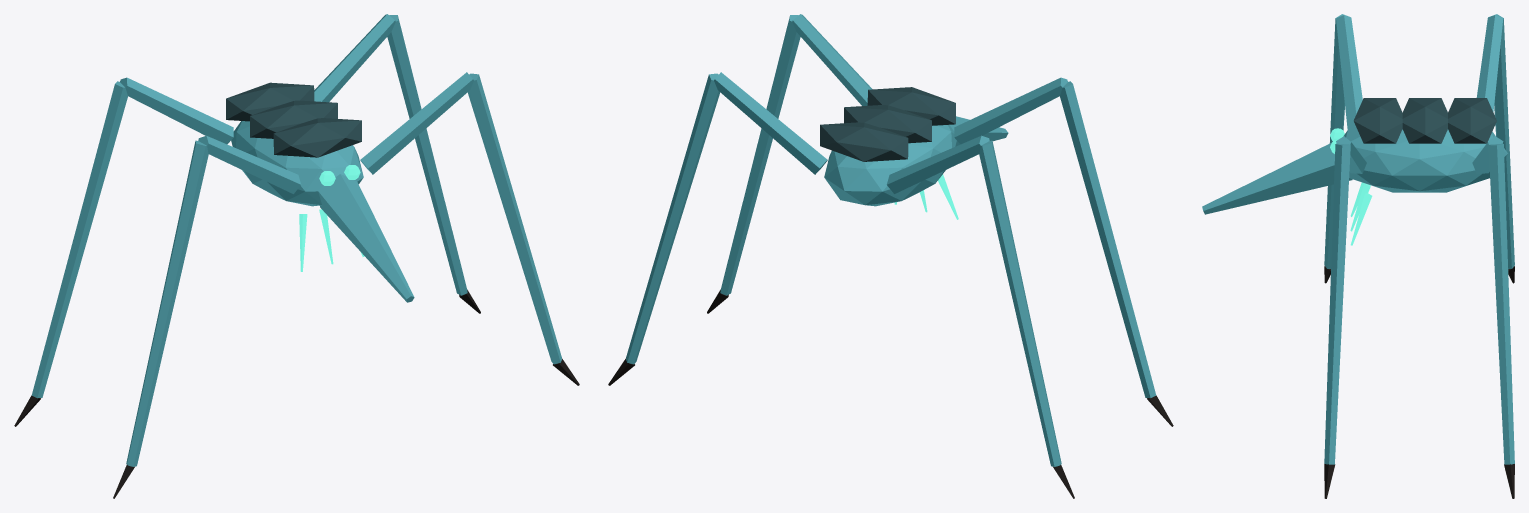
Rendered from exo-strider.glb.
3 renders of one model, left to right at view 1: azimuth 30°, elevation 25°; view 2: azimuth 150°, elevation 25°; view 3: azimuth 270°, elevation 25°, orthographic. The views are drawn at different scales.
Visible parts, largest first — view 1: body; view 2: body; view 3: body.
Boxes of the visible parts, left/top/right/bottom form: body: left=14, top=14, right=579, bottom=498; body: left=608, top=14, right=1173, bottom=498; body: left=1202, top=14, right=1514, bottom=498.
Size of the model in its own units: 4.52 by 3.07 by 2.75.
